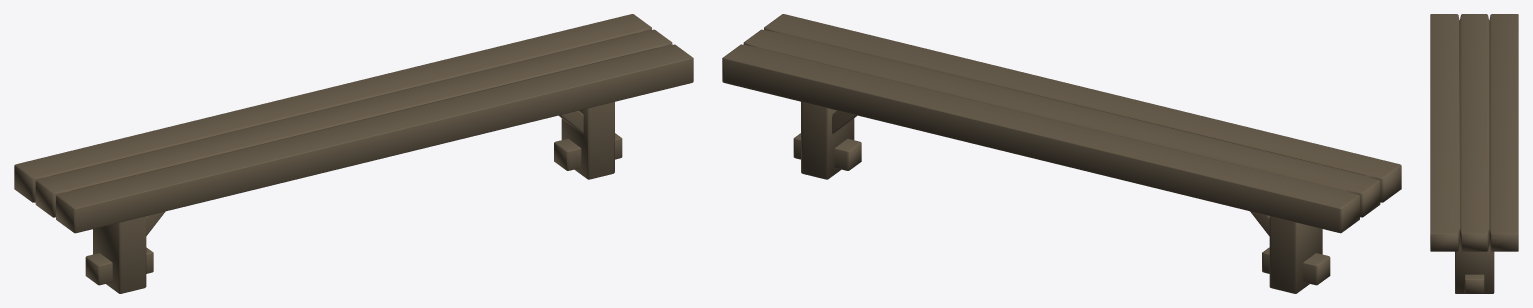
The model's file is bench.fbx.
3 renders of one model, left to right at view 1: azimuth 30°, elevation 25°; view 2: azimuth 150°, elevation 25°; view 3: azimuth 270°, elevation 25°, orthographic. The views are drawn at different scales.
Parts seen in each view (by area): view 1: bench; view 2: bench; view 3: bench.
Part boxes in pixels (x1,y1,x2,y2): bench: (14, 14, 693, 293); bench: (722, 14, 1401, 293); bench: (1430, 14, 1518, 293).
Bounding box in the file's own units: 540 × 94.37 × 91.65.
